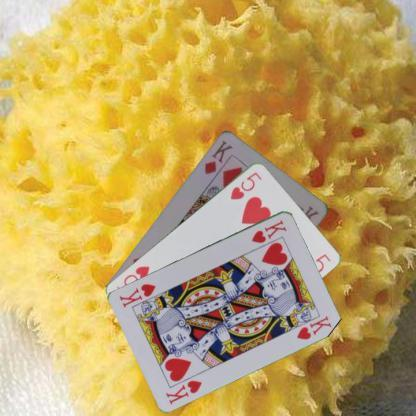5h: (228, 168, 263, 202)
Kd: (202, 137, 235, 176)
Kh: (162, 376, 204, 406), (248, 218, 288, 245)
